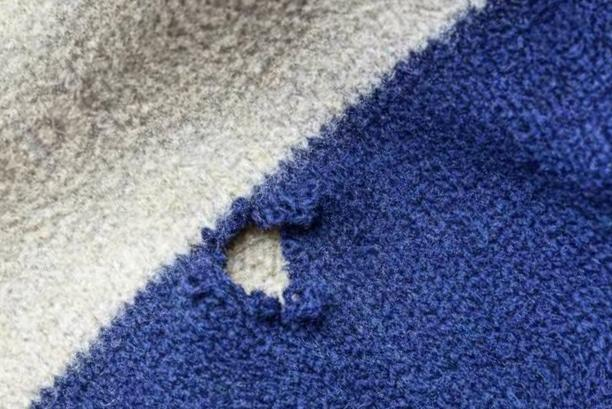hole: (212, 219, 309, 310)
